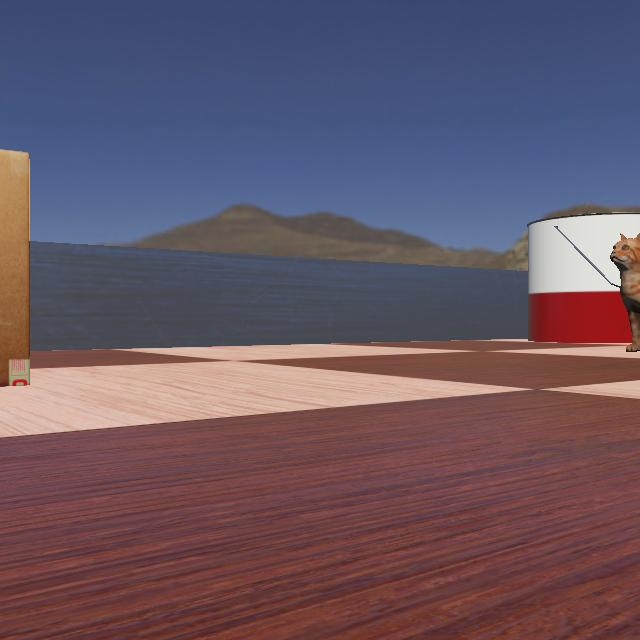cardboard-box: (0, 79, 88, 414)
cat: (584, 226, 640, 354), (584, 226, 640, 354), (584, 226, 640, 354)
paint-bucket: (509, 208, 639, 344), (509, 208, 639, 344)
